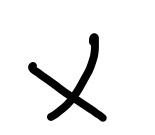mult: (28, 33, 107, 122)
